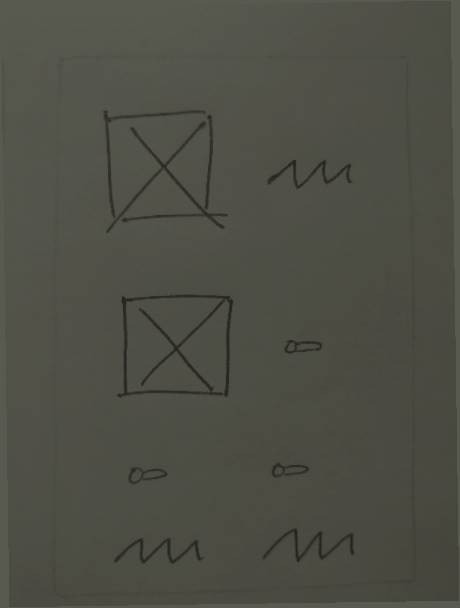image: (97, 99, 235, 241), (107, 281, 247, 409)
switch: (261, 448, 326, 491), (114, 459, 187, 493), (276, 332, 332, 363)
text: (250, 515, 367, 572), (260, 149, 363, 202), (101, 526, 216, 570)
